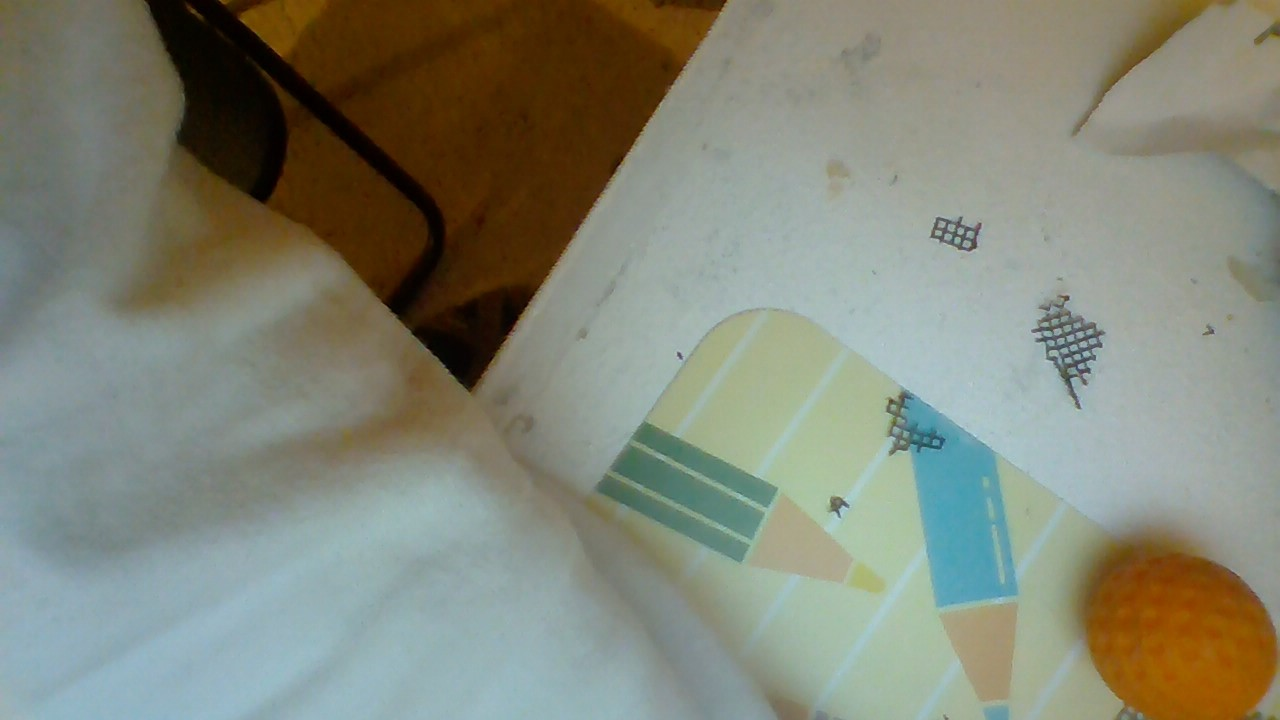ball: (1088, 552, 1280, 717)
